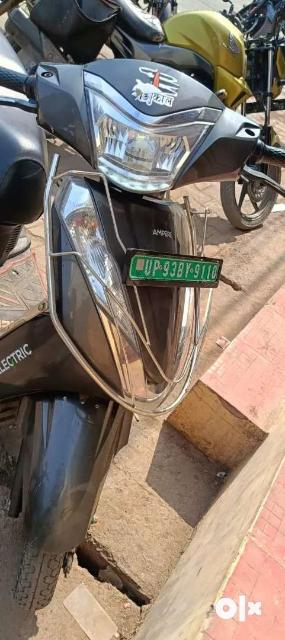Indian_Number_Plate: (127, 251, 224, 285)
